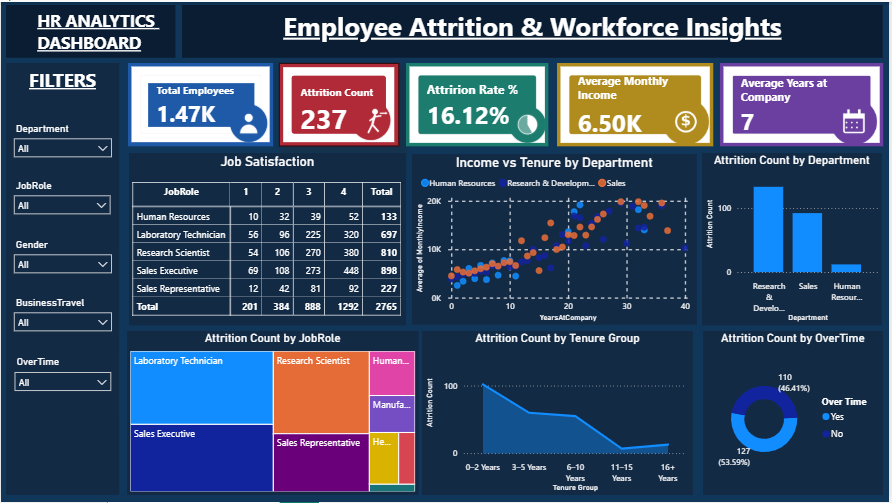

The dashboard page shown, as its layout file describes it:
{"tool":"powerbi","page":{"name":"HR Analytics Dashboard","canvas":[1280,720],"ordinal":0},"visuals":[{"type":"textbox","box":[7.8,4.4,244.4,75.6],"z":0},{"type":"textbox","box":[260.6,4.5,1009.1,75.8],"z":1000},{"type":"cardVisual","fields":{"Data":["FactEmployee.Attrition Count"]},"box":[400,87.5,172.5,120],"z":2000},{"type":"cardVisual","fields":{"Data":["FactEmployee.Attririon Rate %"]},"box":[582.5,87.5,205,120],"z":3000},{"type":"cardVisual","fields":{"Data":["FactEmployee.Average Monthly Income"]},"box":[801.2,87.5,225,120],"z":4000},{"type":"cardVisual","fields":{"Data":["FactEmployee.Average Years at Company"]},"box":[1035,87.5,235,120],"z":5000},{"type":"clusteredColumnChart","fields":{"Category":["DimDepartment.Department"],"Y":["FactEmployee.Attrition Count"]},"box":[1010,217.5,258.8,247.5],"z":6000},{"type":"treemap","fields":{"Group":["DimJobRole.JobRole"],"Values":["FactEmployee.Attrition Count"]},"box":[181.8,474.2,419.7,236.4],"z":7000},{"type":"donutChart","fields":{"Category":["FactEmployee.OverTime"],"Y":["FactEmployee.Attrition Count"]},"box":[1010.6,474.2,259.1,236.4],"z":8000},{"type":"textbox","box":[7.2,87.8,162.7,622.1],"z":8500},{"type":"pivotTable","title":" Job Satisfaction","fields":{"Rows":["DimJobRole.JobRole"],"Columns":["FactEmployee.JobSatisfaction"],"Values":["Sum(FactEmployee.JobSatisfaction)"]},"box":[183.8,217.5,398.8,247.5],"z":9000},{"type":"areaChart","fields":{"Y":["FactEmployee.Attrition Count"],"Category":["FactEmployee.Tenure Group"]},"box":[606.1,474.2,390,236.2],"z":11000},{"type":"scatterChart","title":"Income vs Tenure by Department","fields":{"Y":["Avg(FactEmployee.MonthlyIncome)"],"X":["FactEmployee.YearsAtCompany"],"Series":["DimDepartment.Department"]},"box":[591.2,218.8,410,246],"z":12000},{"type":"cardVisual","fields":{"Data":["FactEmployee.Total Employees"]},"box":[183.3,87.9,209.1,119.7],"z":13000},{"type":"slicer","fields":{"Values":["DimDepartment.Department"]},"box":[8.6,168.5,160.6,81.8],"z":14000},{"type":"slicer","fields":{"Values":["DimGender.Gender"]},"box":[8.6,335.5,160.6,83.3],"z":15000},{"type":"slicer","fields":{"Values":["DimJobRole.JobRole"]},"box":[8.6,250.6,159.1,86.4],"z":16000},{"type":"slicer","fields":{"Values":["DimBusinessTravel.BusinessTravel"]},"box":[8.6,419,160.6,84.8],"z":17000},{"type":"slicer","fields":{"Values":["FactEmployee.OverTime"]},"box":[8.6,504,160.6,87.9],"z":18000},{"type":"image","box":[492.4,139.4,80.3,60.6],"z":19000},{"type":"image","box":[730.3,145.5,56.1,62.1],"z":20000},{"type":"image","box":[943.9,136.4,83.3,71.2],"z":21000},{"type":"image","box":[1186.4,136.4,83.3,71.2],"z":22000},{"type":"image","box":[321.2,145.5,71.2,57.6],"z":23000}]}

Visuals, with their boxes in screenshot pixels (x1, y1, x2, y2), scaled from the page's 1280x720 canvas onto the 892x503 screenshot:
textbox: (left=5, top=3, right=176, bottom=56)
textbox: (left=182, top=3, right=885, bottom=56)
cardVisual - FactEmployee.Attrition Count: (left=279, top=61, right=399, bottom=145)
cardVisual - FactEmployee.Attririon Rate %: (left=406, top=61, right=549, bottom=145)
cardVisual - FactEmployee.Average Monthly Income: (left=558, top=61, right=715, bottom=145)
cardVisual - FactEmployee.Average Years at Company: (left=721, top=61, right=885, bottom=145)
clusteredColumnChart - DimDepartment.Department x FactEmployee.Attrition Count: (left=704, top=152, right=884, bottom=325)
treemap - DimJobRole.JobRole x FactEmployee.Attrition Count: (left=127, top=331, right=419, bottom=496)
donutChart - FactEmployee.OverTime x FactEmployee.Attrition Count: (left=704, top=331, right=885, bottom=496)
textbox: (left=5, top=61, right=118, bottom=496)
" Job Satisfaction" pivotTable: (left=128, top=152, right=406, bottom=325)
areaChart - FactEmployee.Attrition Count x FactEmployee.Tenure Group: (left=422, top=331, right=694, bottom=496)
"Income vs Tenure by Department" scatterChart: (left=412, top=153, right=698, bottom=325)
cardVisual - FactEmployee.Total Employees: (left=128, top=61, right=273, bottom=145)
slicer - DimDepartment.Department: (left=6, top=118, right=118, bottom=175)
slicer - DimGender.Gender: (left=6, top=234, right=118, bottom=293)
slicer - DimJobRole.JobRole: (left=6, top=175, right=117, bottom=235)
slicer - DimBusinessTravel.BusinessTravel: (left=6, top=293, right=118, bottom=352)
slicer - FactEmployee.OverTime: (left=6, top=352, right=118, bottom=414)
image: (left=343, top=97, right=399, bottom=140)
image: (left=509, top=102, right=548, bottom=145)
image: (left=658, top=95, right=716, bottom=145)
image: (left=827, top=95, right=885, bottom=145)
image: (left=224, top=102, right=273, bottom=142)
